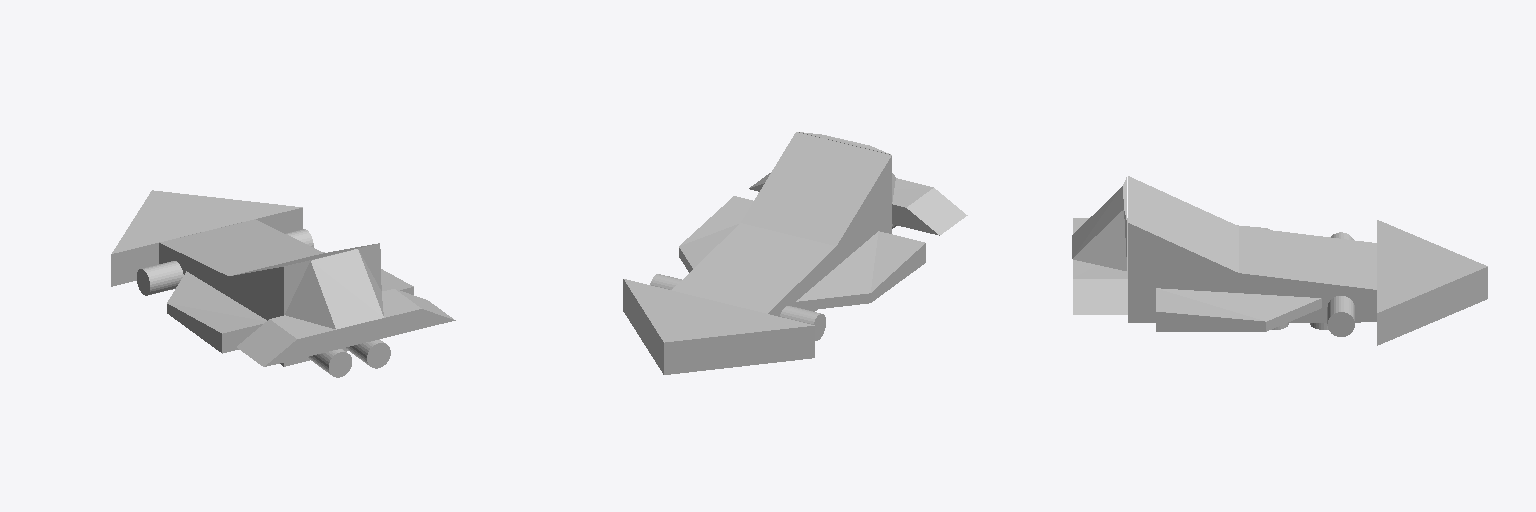
The model's file is Derpy.obj.
3 renders of one model, left to right at view 1: azimuth 30°, elevation 25°; view 2: azimuth 150°, elevation 25°; view 3: azimuth 270°, elevation 25°, orthographic.
Parts seen in each view (by area): view 1: Cube.002; view 2: Cube.002; view 3: Cube.002.
Boxes of the visible parts, box(x1,y1,x2,y2) form: Cube.002: box(111, 190, 455, 377); Cube.002: box(623, 132, 967, 374); Cube.002: box(1072, 176, 1487, 345).
Bounding box in the file's own units: 0.8 × 0.4671 × 1.5.